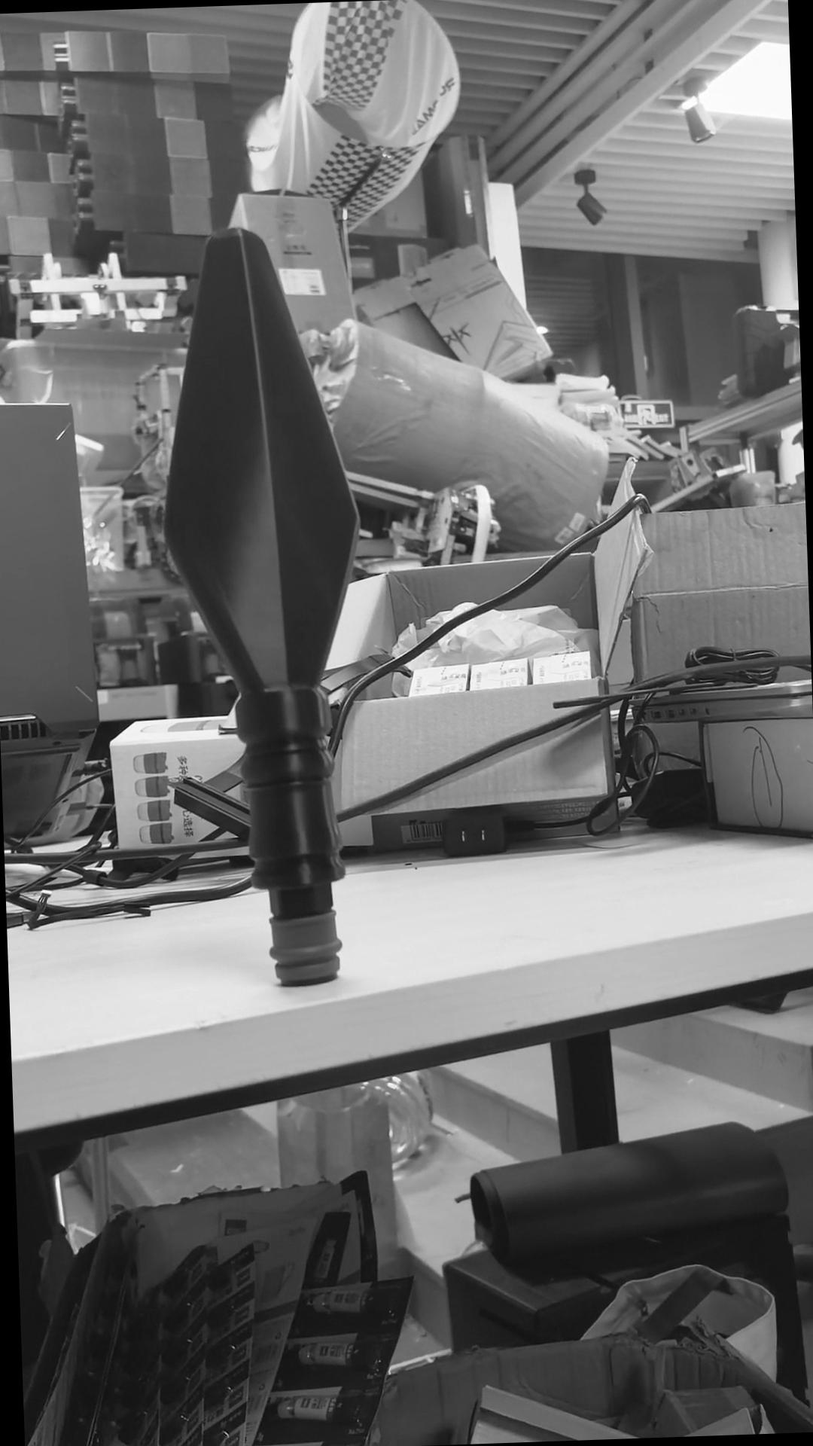base: (255, 904, 350, 1000)
